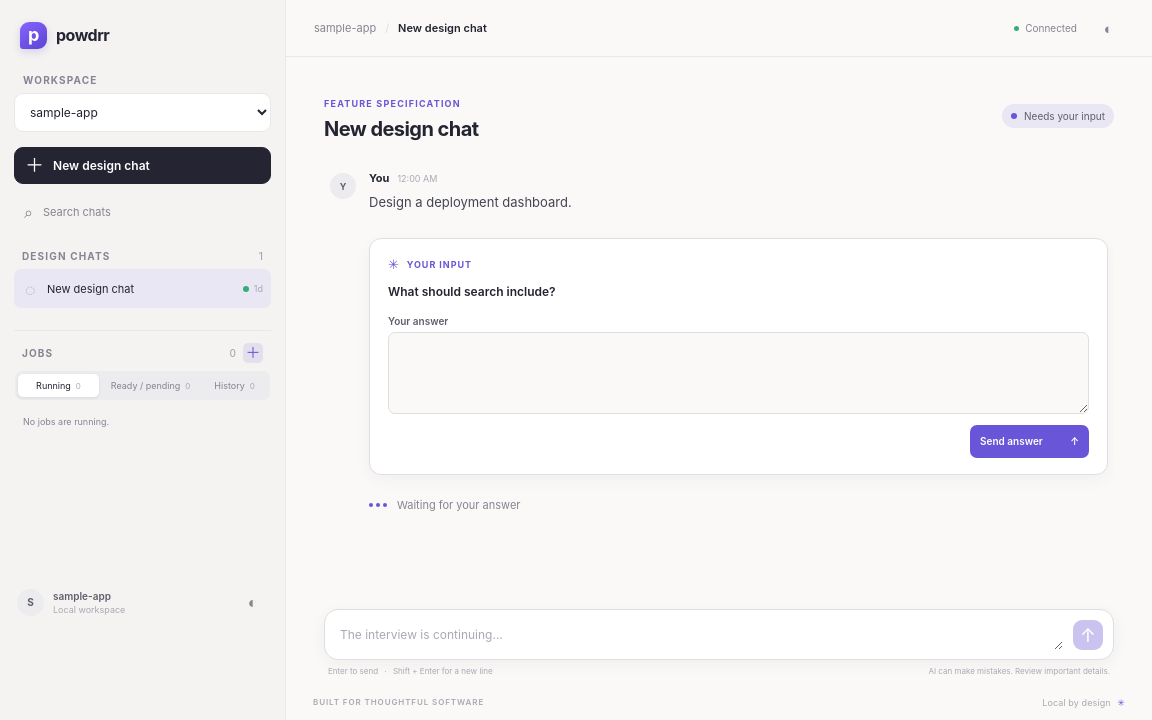
it: workspace shell › renders a persisted interview question and submits its schema-valid answer
Check: the text "What should search include?" is shown, box [388,284,556,299]
Type "Product names" into the text box labelled "Your answer" at coordinates (738, 372), box [388,332,1089,414]
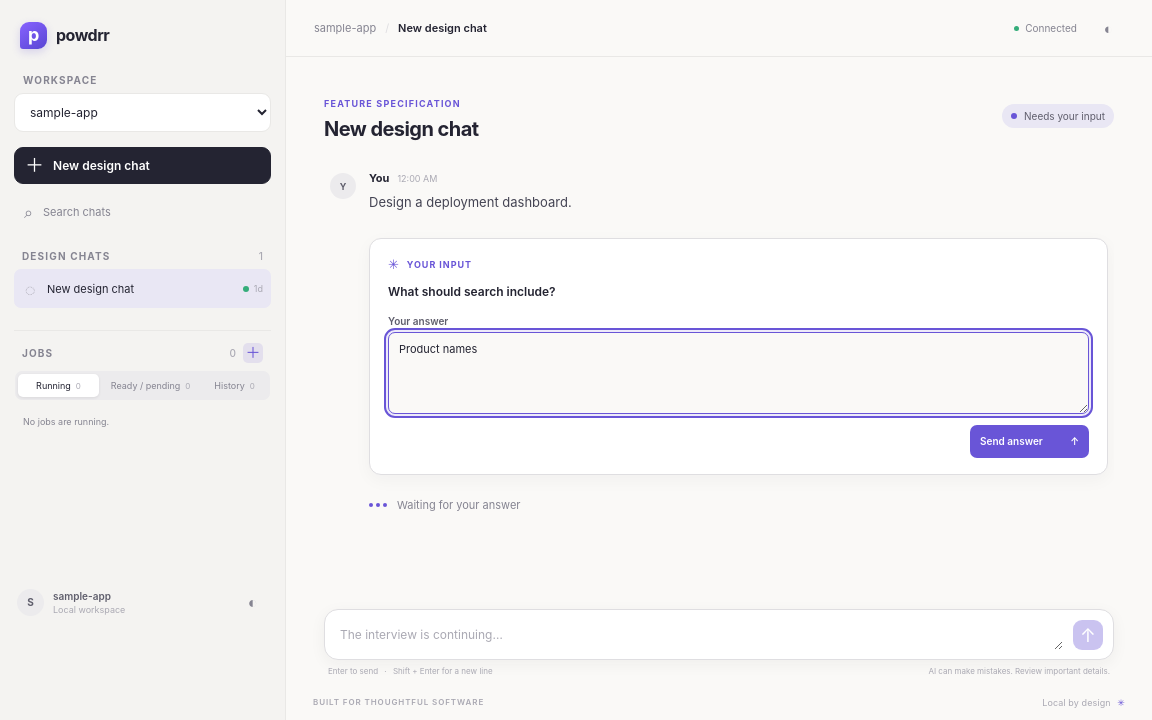
Click the button "Send answer ↑" at coordinates (1030, 441), box [970,424,1089,458]
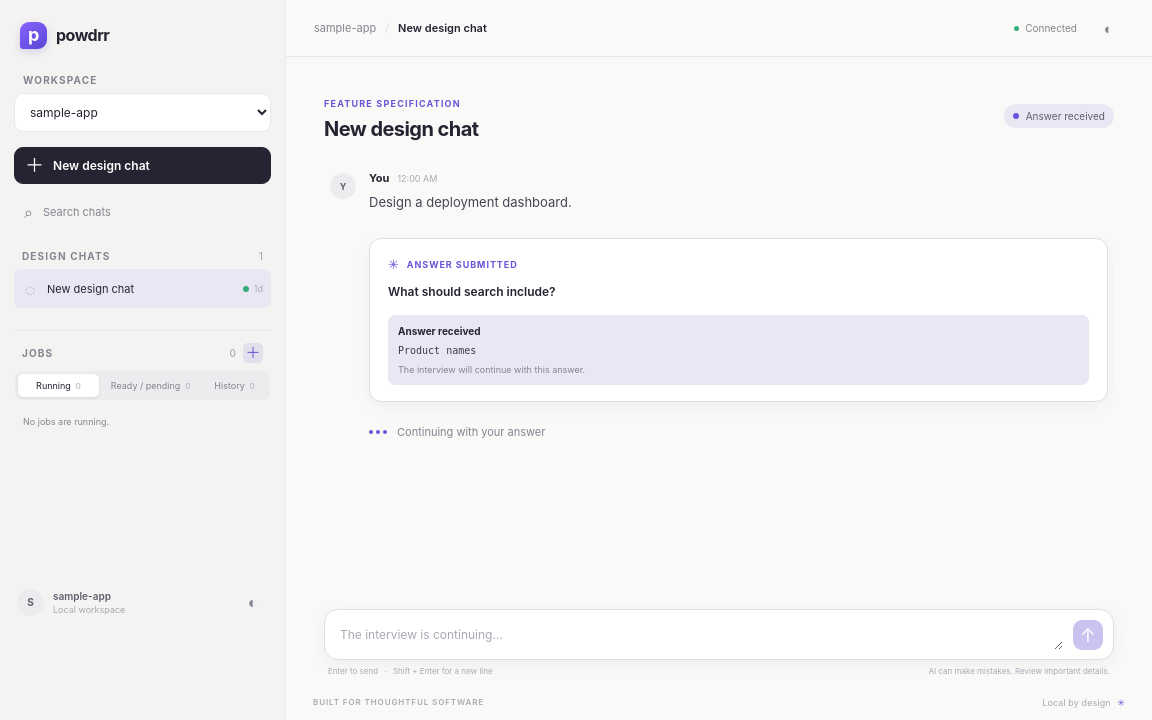
Check: the text "Answer received" is shown, box [398,324,480,336]
Check: the text "Product names" is shown, box [398,344,476,356]
